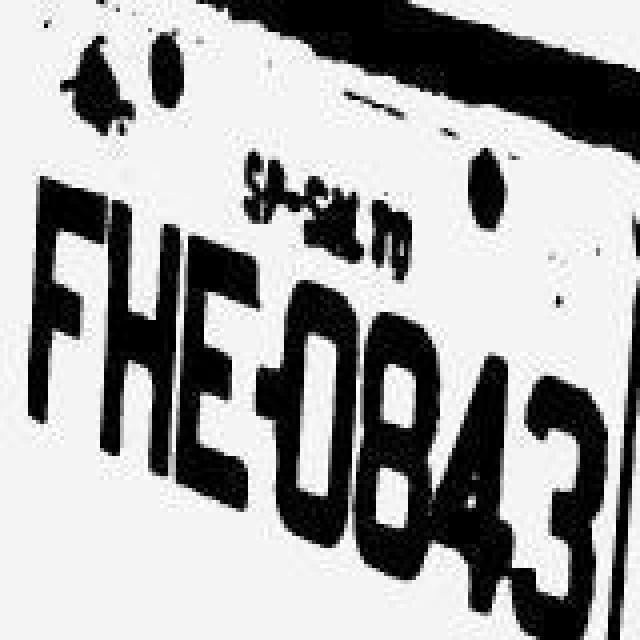3: (508, 380, 608, 640)
4: (430, 356, 514, 612)
8: (356, 310, 444, 578)
E: (176, 234, 272, 518)
F: (22, 172, 106, 428)
H: (94, 200, 186, 480)
O: (272, 284, 360, 548)
